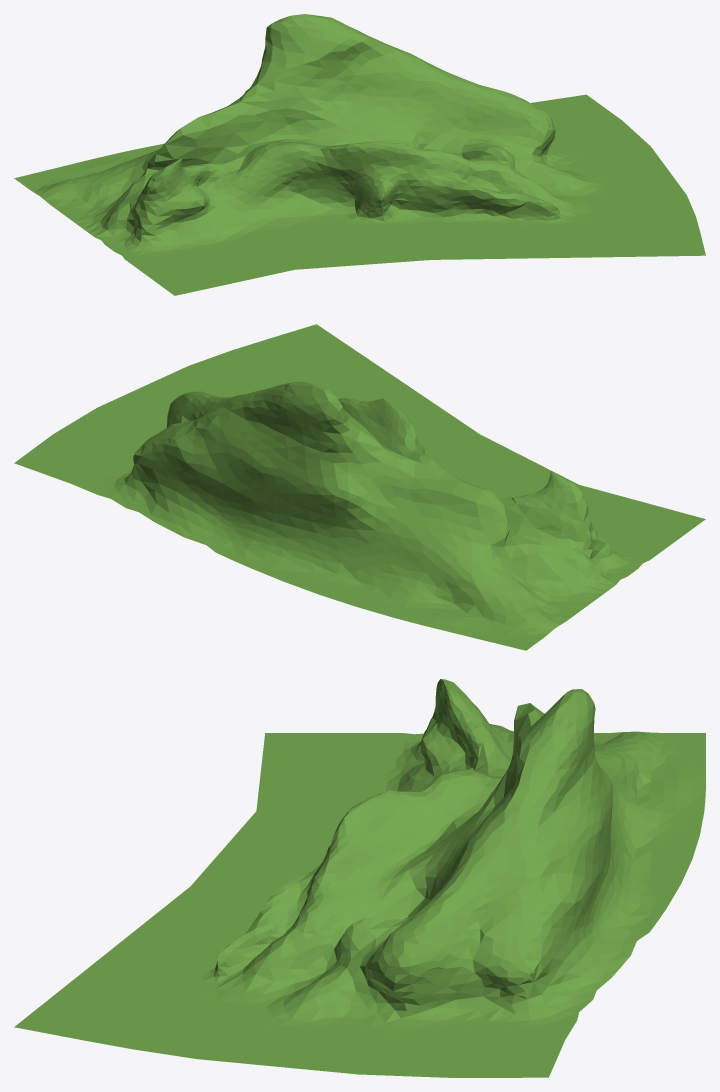
File: hill2.glb
3 views of the same model, one above another, from view 1: azimuth 30°, elevation 25°; view 2: azimuth 150°, elevation 25°; view 3: azimuth 270°, elevation 25° (orthographic). The views are drawn at different scales.
Visible parts, largest first — view 1: Plane.002; view 2: Plane.002; view 3: Plane.002.
Part boxes in pixels (x1,y1,x2,y2): Plane.002: (14, 14, 705, 295); Plane.002: (14, 324, 705, 650); Plane.002: (14, 679, 705, 1077).
Bounding box in the file's own units: 3.8 × 1 × 3.22.
